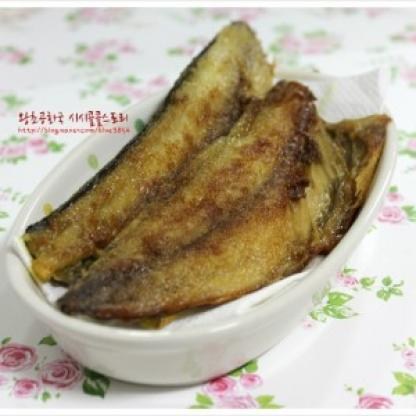Peixe: (0, 10, 388, 347)
